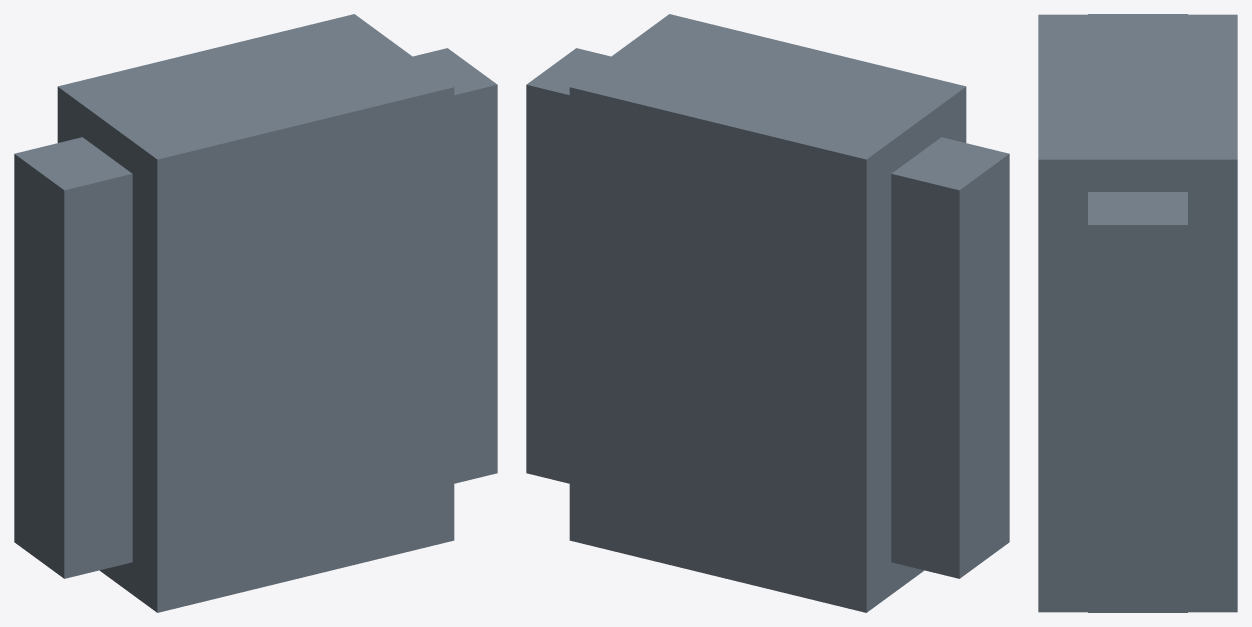
Rendered from streetwear_jacket.glb.
3 renders of one model, left to right at view 1: azimuth 30°, elevation 25°; view 2: azimuth 150°, elevation 25°; view 3: azimuth 270°, elevation 25°, orthographic.
Parts seen in each view (by area): view 1: garment, sleeve_l, sleeve_r; view 2: garment, sleeve_l, sleeve_r; view 3: garment, sleeve_r.
Part boxes in pixels (x1,y1,x2,y2): garment: [57, 14, 454, 612]; sleeve_l: [14, 137, 132, 578]; sleeve_r: [413, 48, 497, 483]; garment: [569, 14, 966, 612]; sleeve_l: [891, 137, 1009, 578]; sleeve_r: [526, 48, 610, 483]; garment: [1038, 14, 1237, 612]; sleeve_r: [1088, 192, 1187, 612].
Bounding box in the file's own units: 0.7001 × 0.7002 × 0.2798.
